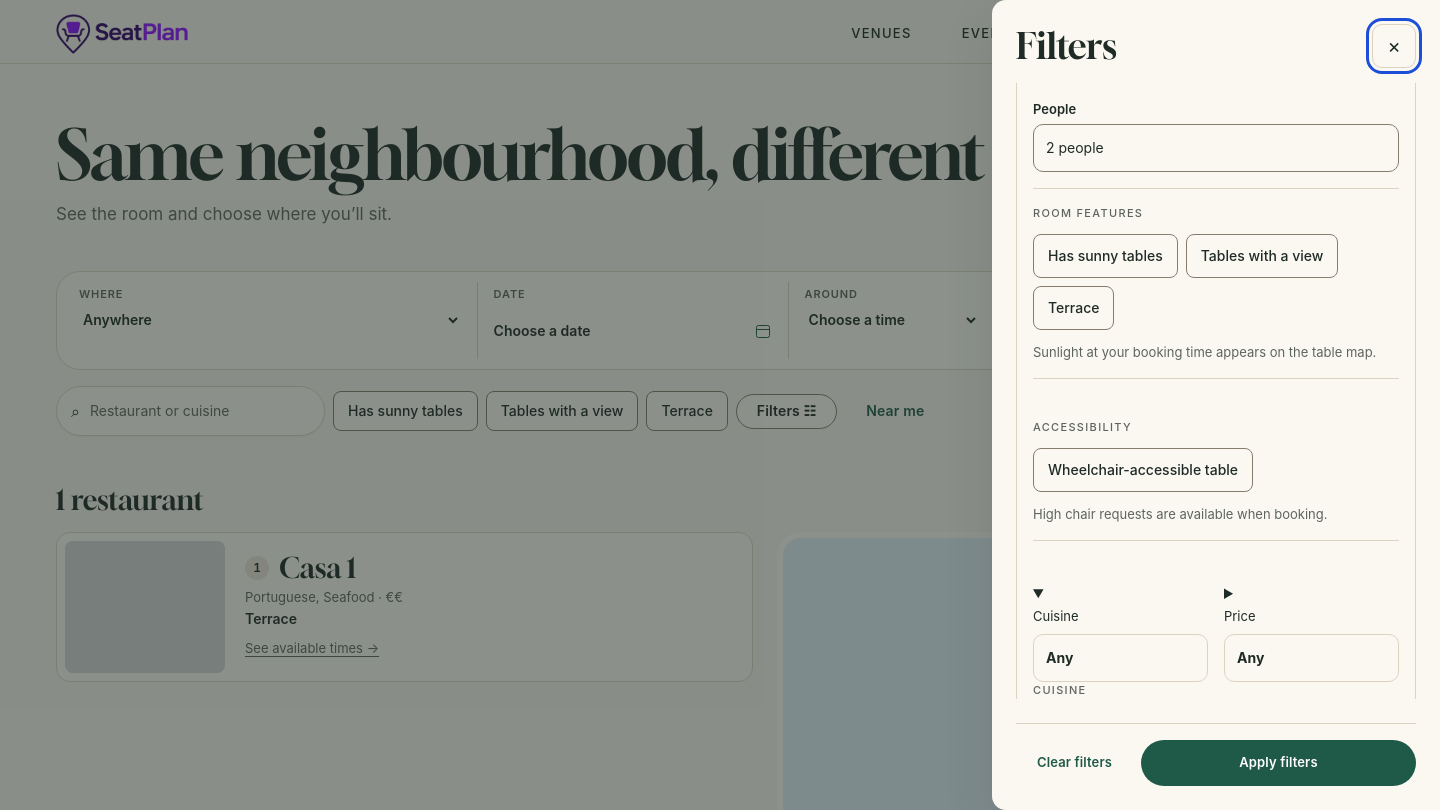
Test: DiscoverPage: the filters drawer › sends the chosen cuisines, prices and wheelchair access
The width and height of the screenshot is (1440, 810).
Earlier steps of the test are not shown.
(page scrolled)
Click the text "Price" at (1240, 616), box [1224,608,1256,624]
(page scrolled)
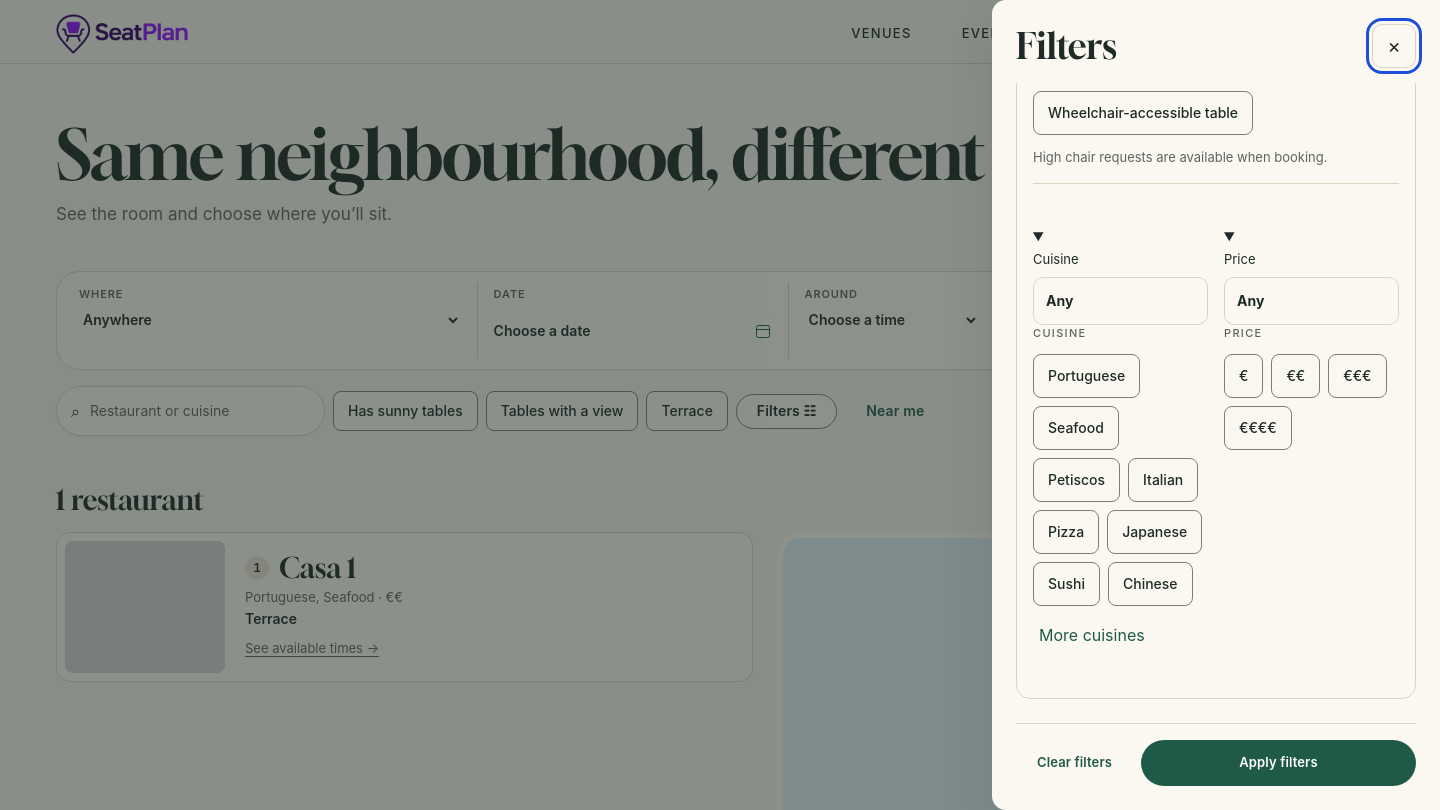
Click the button "Sushi" at (1066, 584), box [1033,562,1100,606]
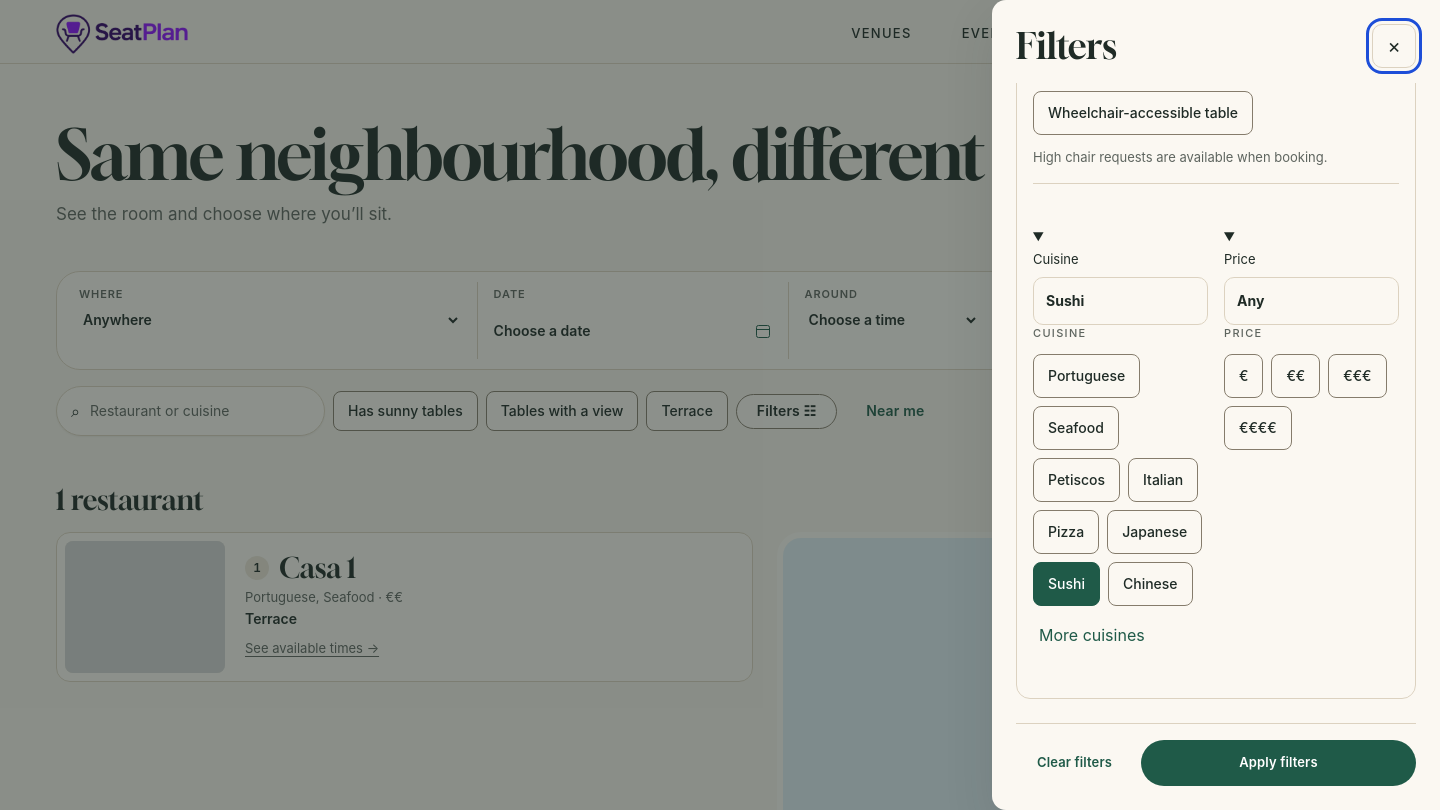
Click the button "Pizza" at (1066, 532), box [1033,510,1099,554]
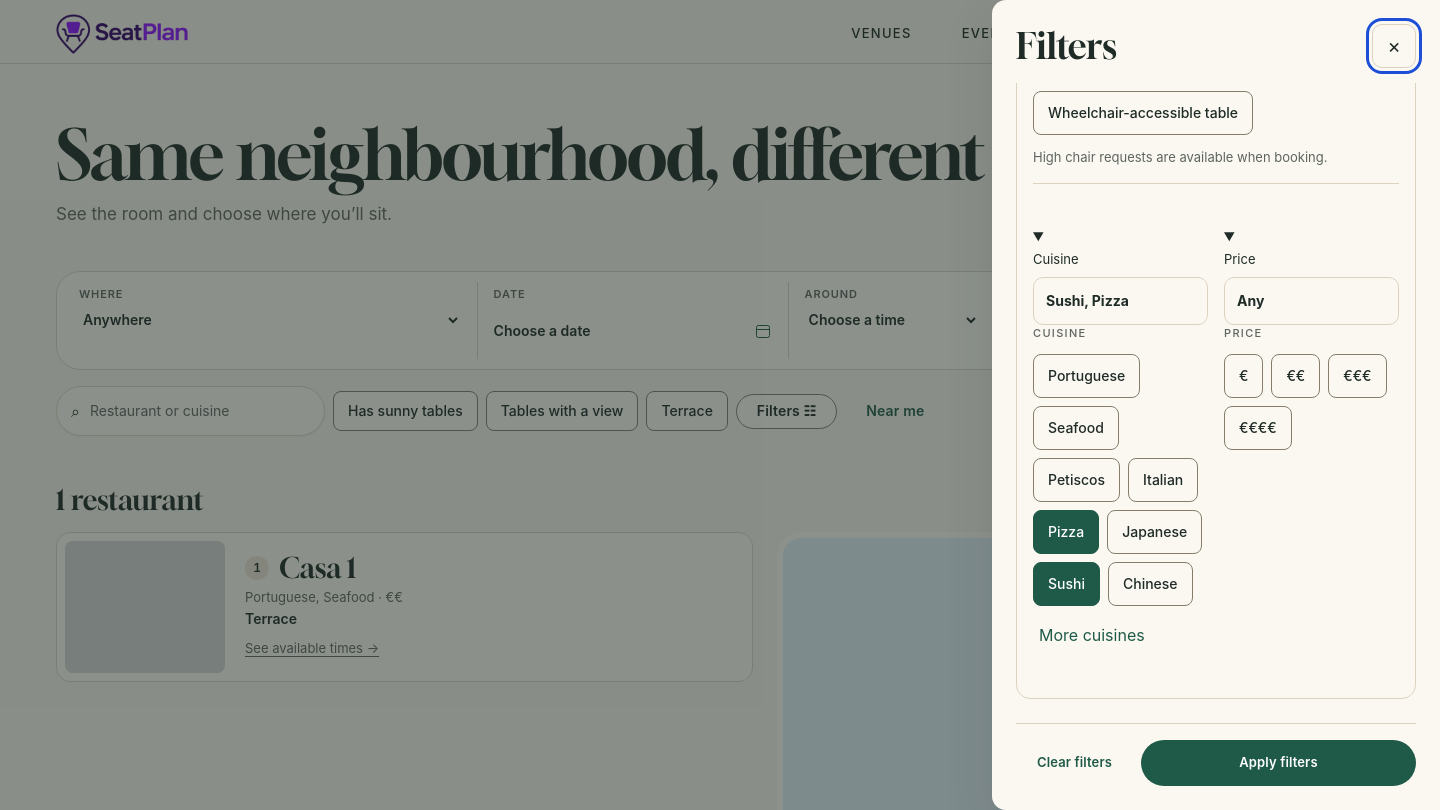
Click the button named "€€, price level 2" at (1296, 376), box [1271,354,1320,398]
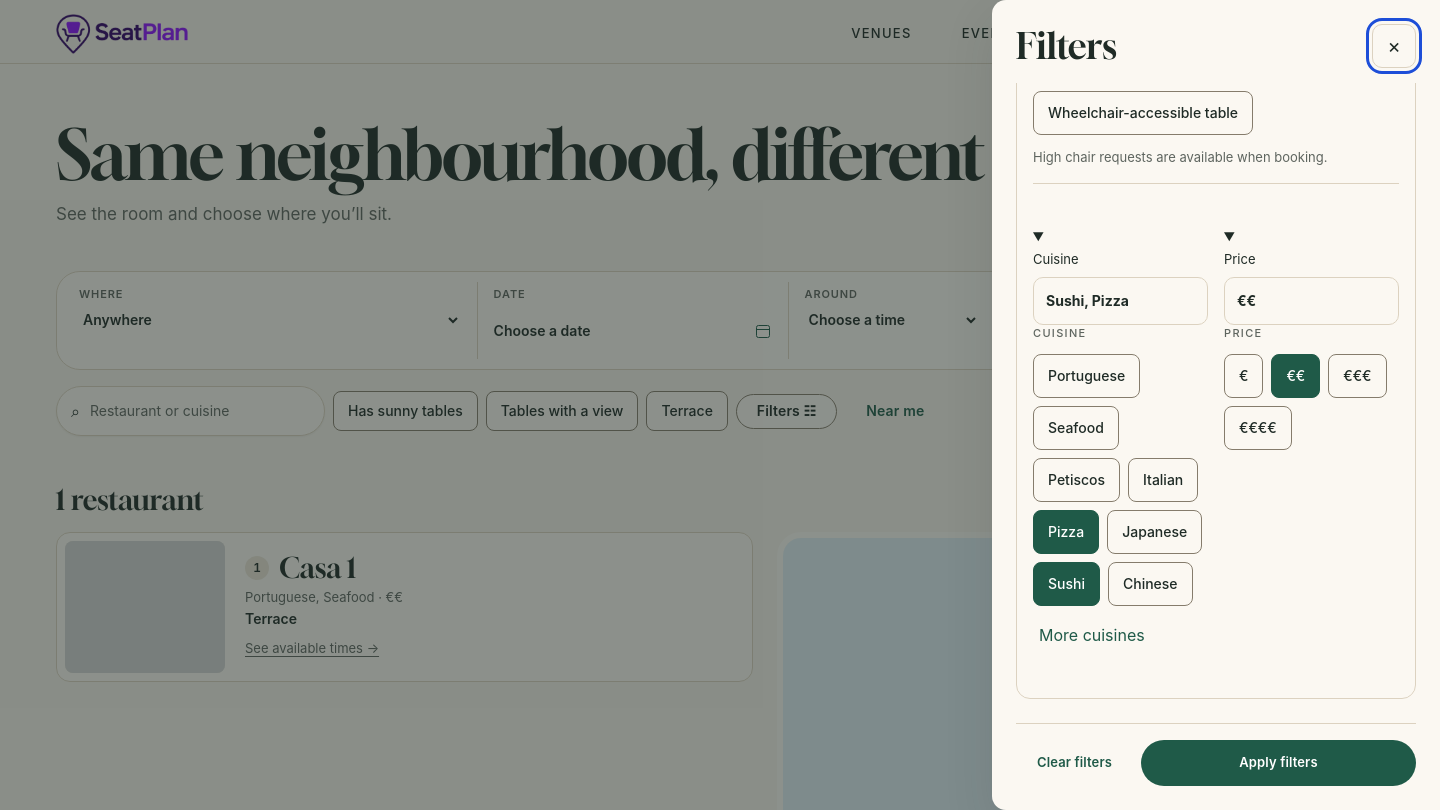
Click the button "Wheelchair-accessible table" at (1143, 113), box [1033,91,1253,135]
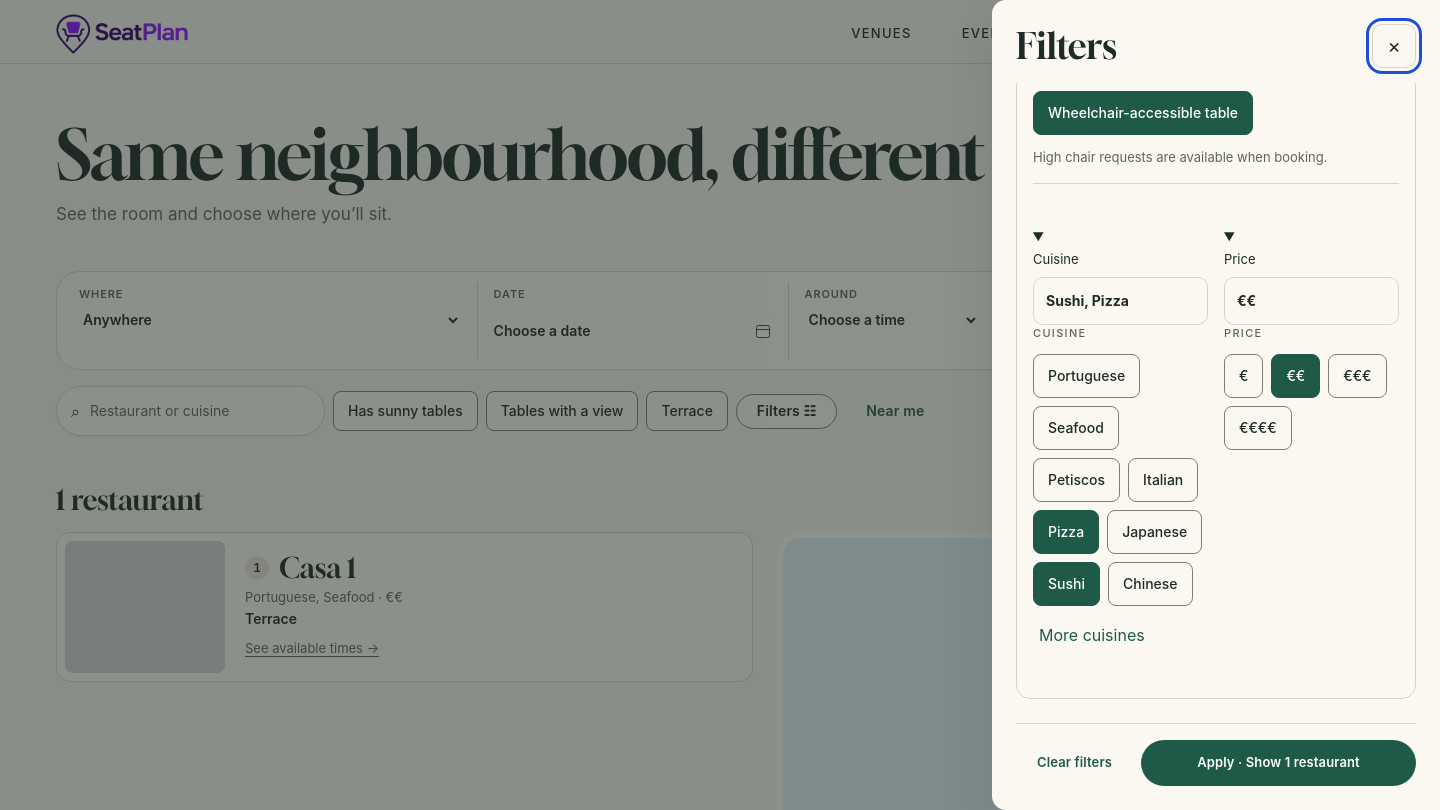
Expected: the button "Sushi" is pressed, [1033,562,1100,606]
Click the button "Apply · Show 1 restaurant" at (1278, 763), box [1141,740,1416,786]
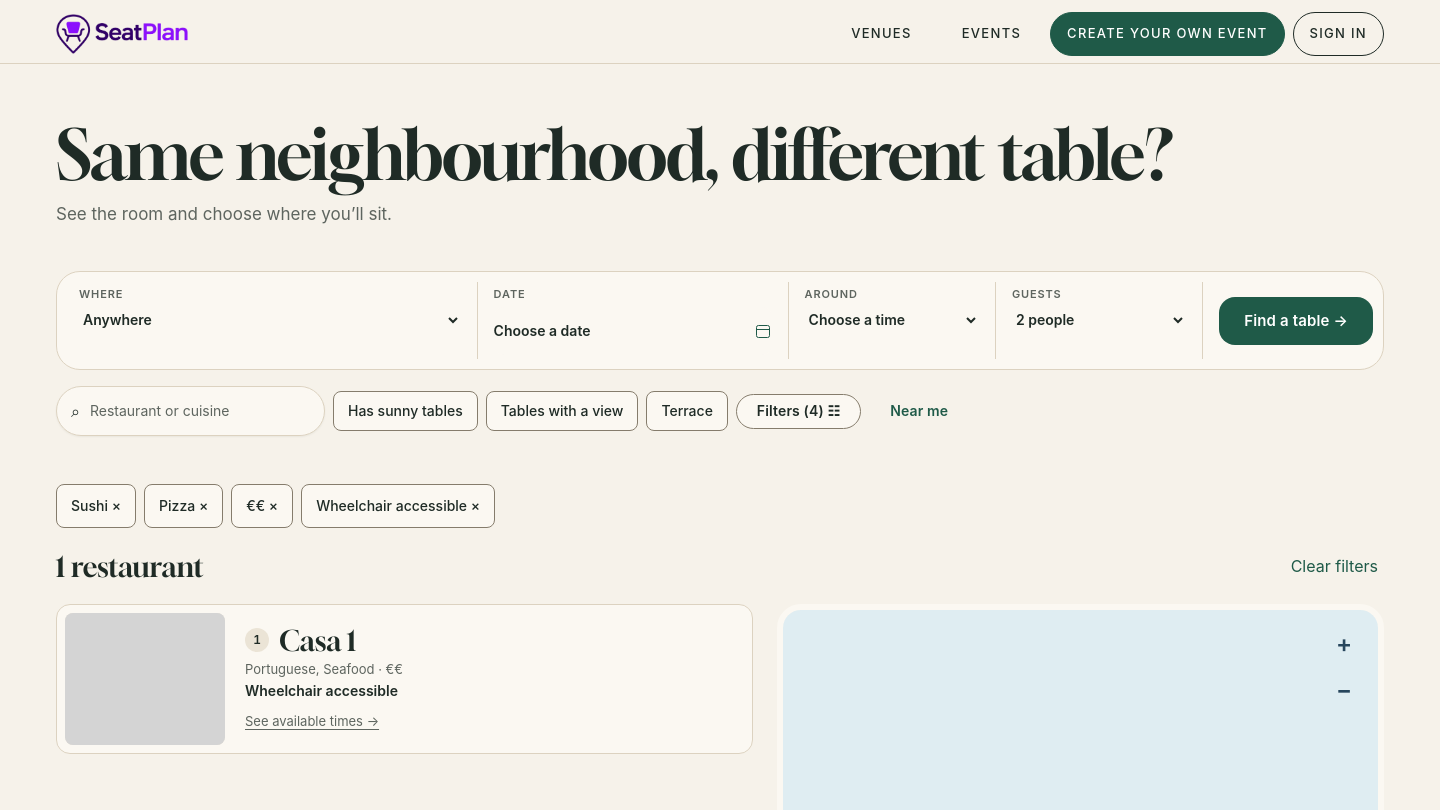
Expected: the button "Filters (4) ☷" is shown, [736,394,861,429]
